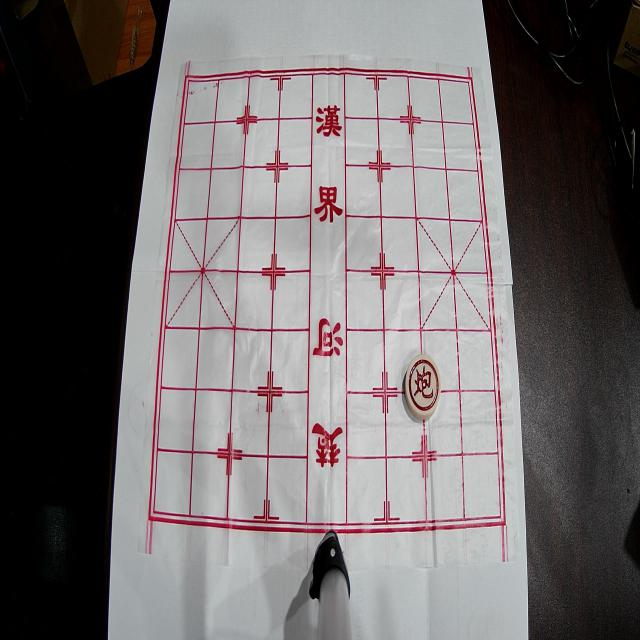red-cannon: (405, 354, 441, 420)
